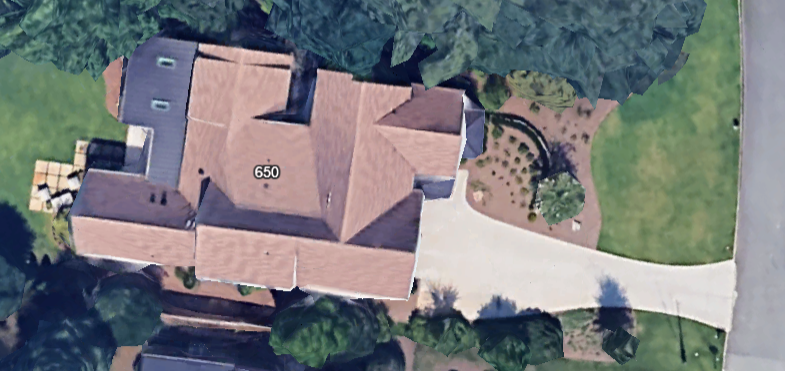driveway: (396, 162, 749, 371)
